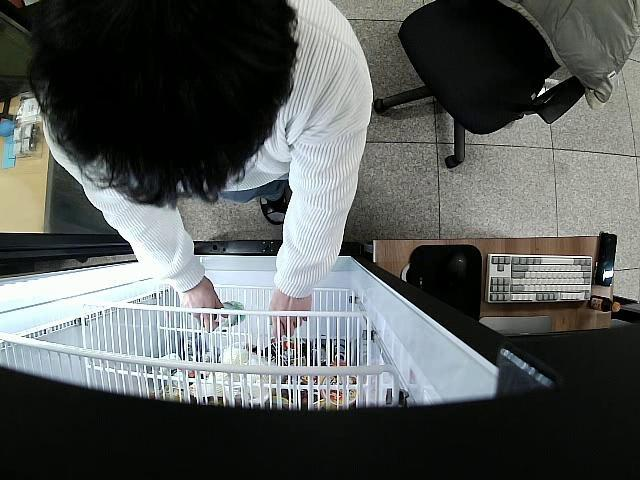18_trevi: (212, 300, 246, 328)
